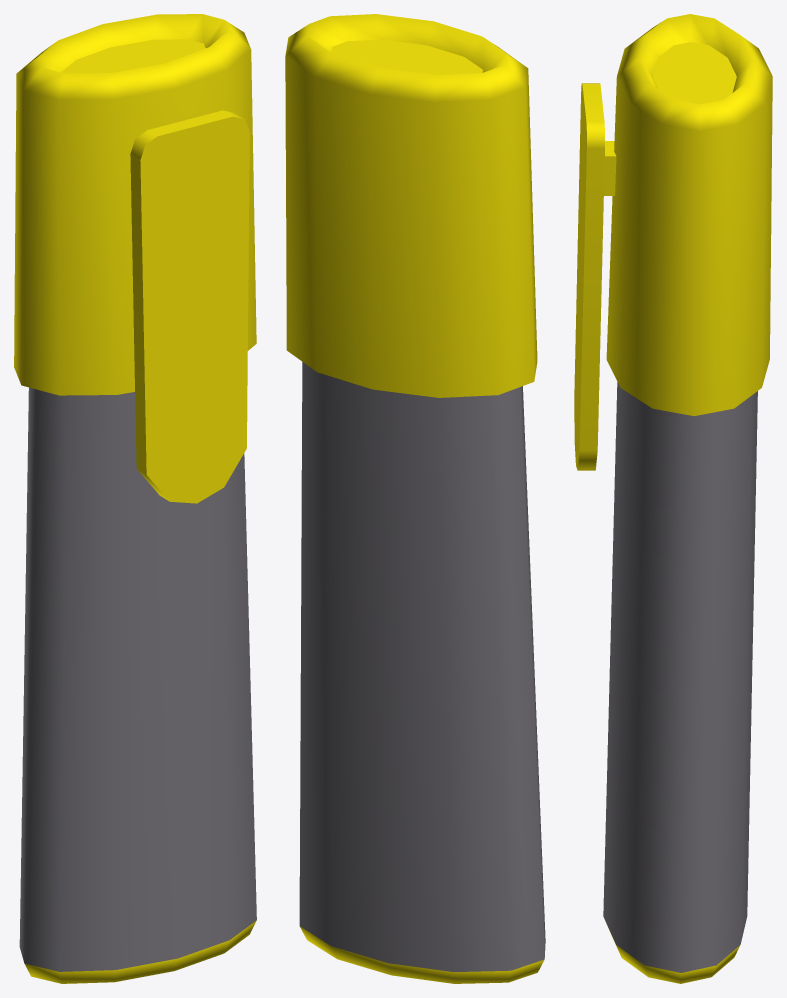
The model's file is Marker_02.fbx.
The picture shows the model from 3 angles, left to right: view 1: azimuth 30°, elevation 25°; view 2: azimuth 150°, elevation 25°; view 3: azimuth 270°, elevation 25°; orthographic projection. The views are drawn at different scales.
Parts seen in each view (by area): view 1: Marker_02; view 2: Marker_02; view 3: Marker_02.
Part boxes in pixels (bbox=[...]): Marker_02: bbox=[14, 14, 256, 983]; Marker_02: bbox=[285, 14, 545, 983]; Marker_02: bbox=[574, 14, 772, 983].
Bounding box in the file's own units: 7.32 × 5.42 × 26.6.
